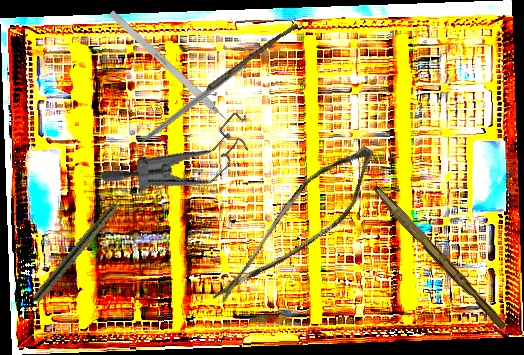Handpiece: (31, 183, 136, 305)
Hook Surgical: (108, 9, 239, 133)
Micro Scissor: (211, 122, 385, 336)
Pusher: (121, 59, 249, 157)
Scalpel Handle: (367, 184, 511, 332)
Speculum: (98, 72, 265, 238)
Surgical Spoon: (176, 20, 299, 115)
